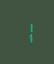one: (19, 20, 33, 43)
